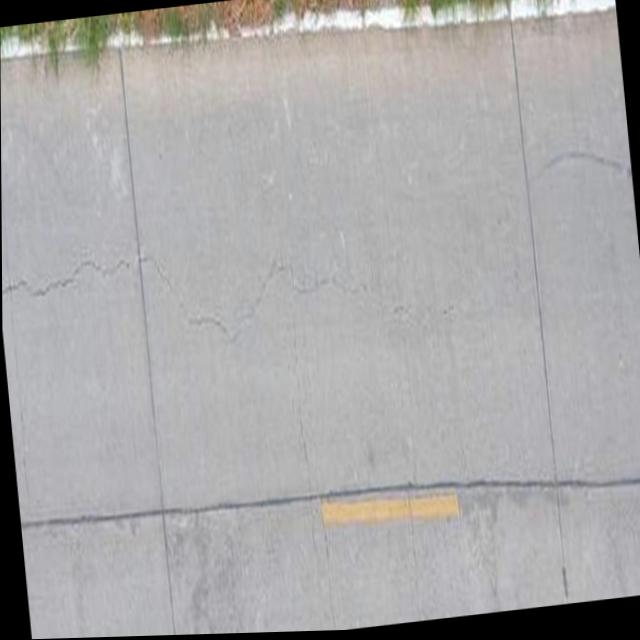Crack: (1, 245, 107, 317), (99, 238, 172, 292)
